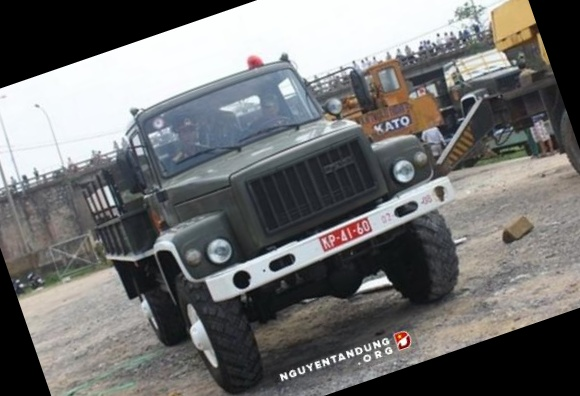plate: (317, 208, 376, 255)
